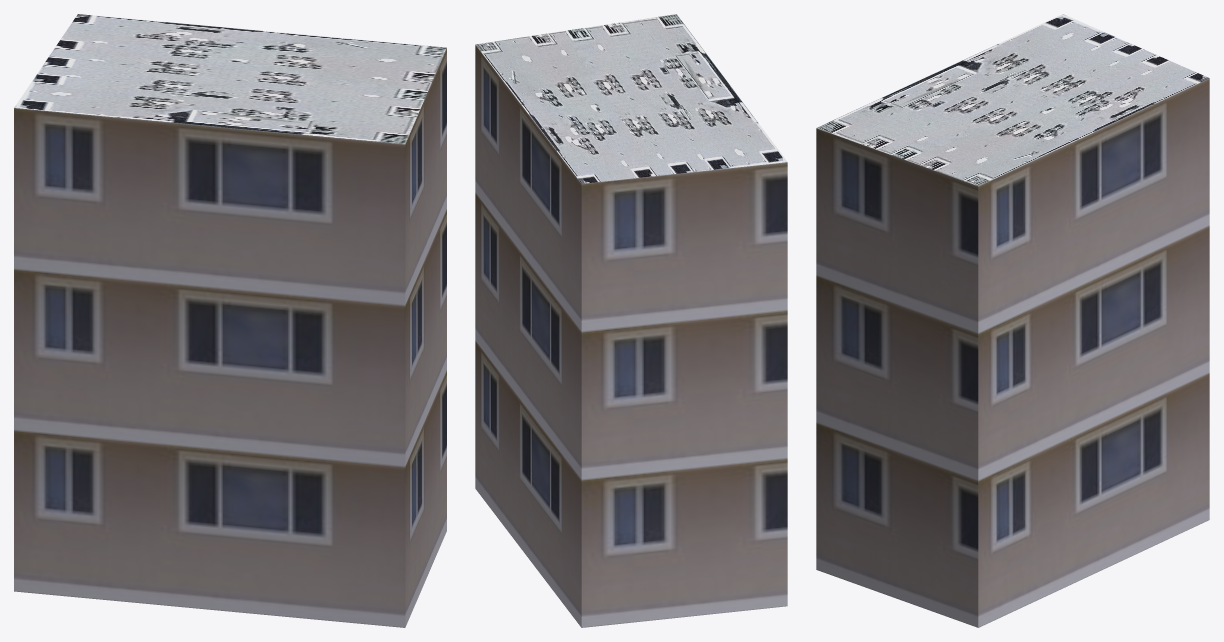
File: ResTex__5122.fbx
3 renders of one model, left to right at view 1: azimuth 30°, elevation 25°; view 2: azimuth 150°, elevation 25°; view 3: azimuth 270°, elevation 25°, orthographic. The views are drawn at different scales.
Visible parts, largest first — view 1: CityEngineMaterial_21_m, CityEngineMaterial_4_m; view 2: CityEngineMaterial_21_m, CityEngineMaterial_4_m; view 3: CityEngineMaterial_21_m, CityEngineMaterial_4_m.
Boxes of the visible parts, <box> form: CityEngineMaterial_21_m: <box>14,48,446,627</box>; CityEngineMaterial_4_m: <box>14,14,446,144</box>; CityEngineMaterial_21_m: <box>475,45,787,627</box>; CityEngineMaterial_4_m: <box>475,14,787,183</box>; CityEngineMaterial_21_m: <box>816,78,1209,627</box>; CityEngineMaterial_4_m: <box>816,14,1209,186</box>.
Bounding box in the file's own units: 7.53 × 9 × 7.27.
Materials: 2 (2 with a texture image).
